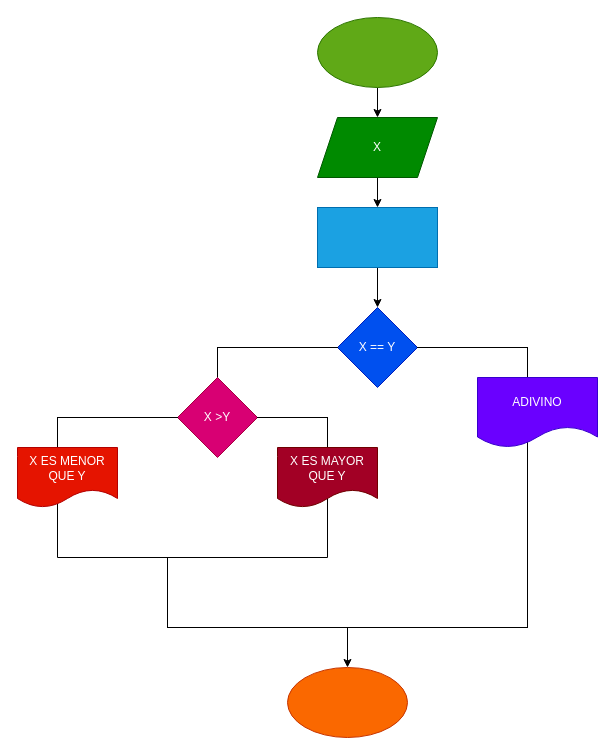
This 615x755 diagram has some shape labels left out. Each missing label, with the centre of its shape:
"FIN" belongs at point (347, 702).
"INICIO" belongs at point (377, 52).
"Y = randint(1,10)" belongs at point (377, 237).
